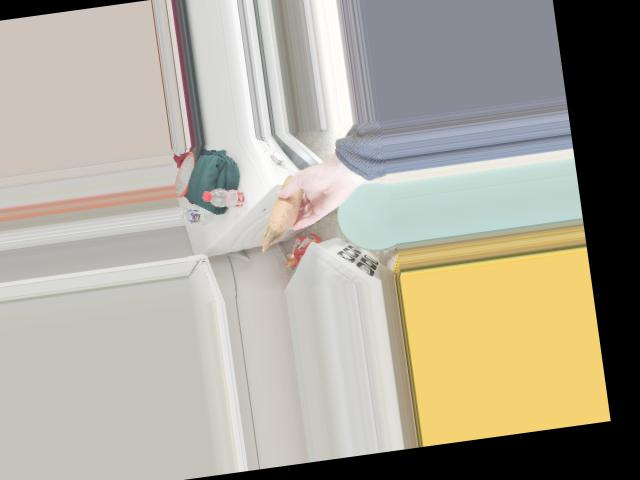sweet_potato: (262, 180, 313, 231)
